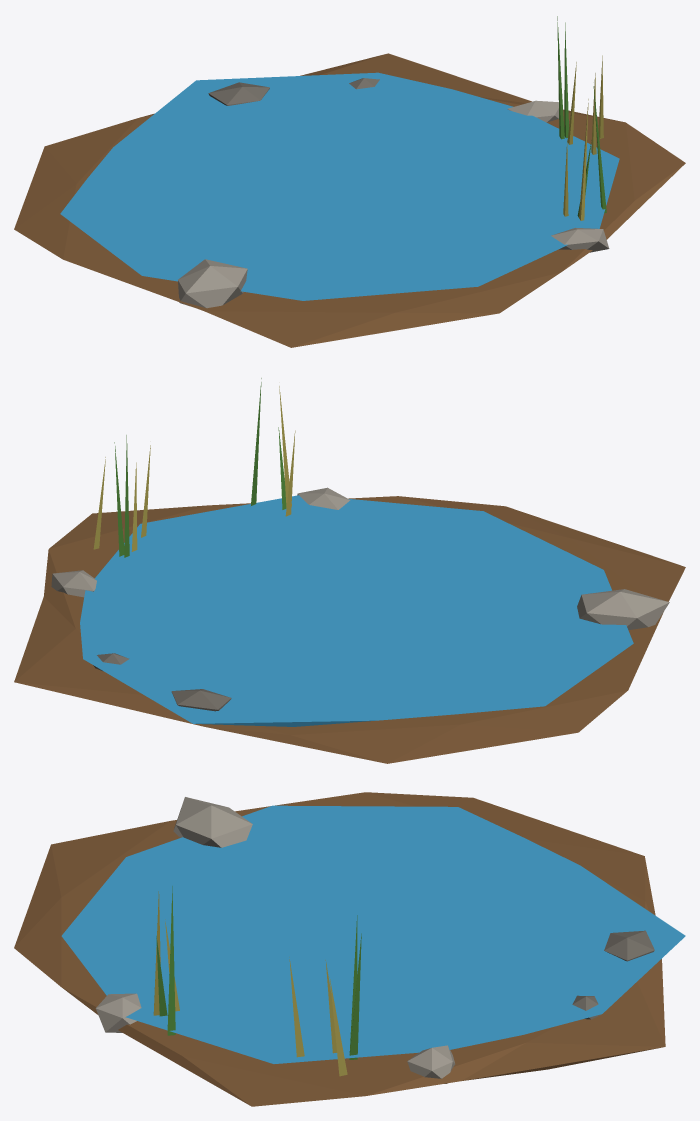
Rendered from HS_LP_Water_Pond_01.fbx.
3 renders of one model, top to bottom at view 1: azimuth 30°, elevation 25°; view 2: azimuth 150°, elevation 25°; view 3: azimuth 270°, elevation 25°, orthographic. The views are drawn at different scales.
Visible parts, largest first — view 1: HS_LP_Water_Pond_01; view 2: HS_LP_Water_Pond_01; view 3: HS_LP_Water_Pond_01.
Part boxes in pixels (x1,y1,x2,y2): HS_LP_Water_Pond_01: (14,16,685,347); HS_LP_Water_Pond_01: (14,378,685,763); HS_LP_Water_Pond_01: (14,792,685,1106).
Bounding box in the file's own units: 266 × 68.24 × 244.
